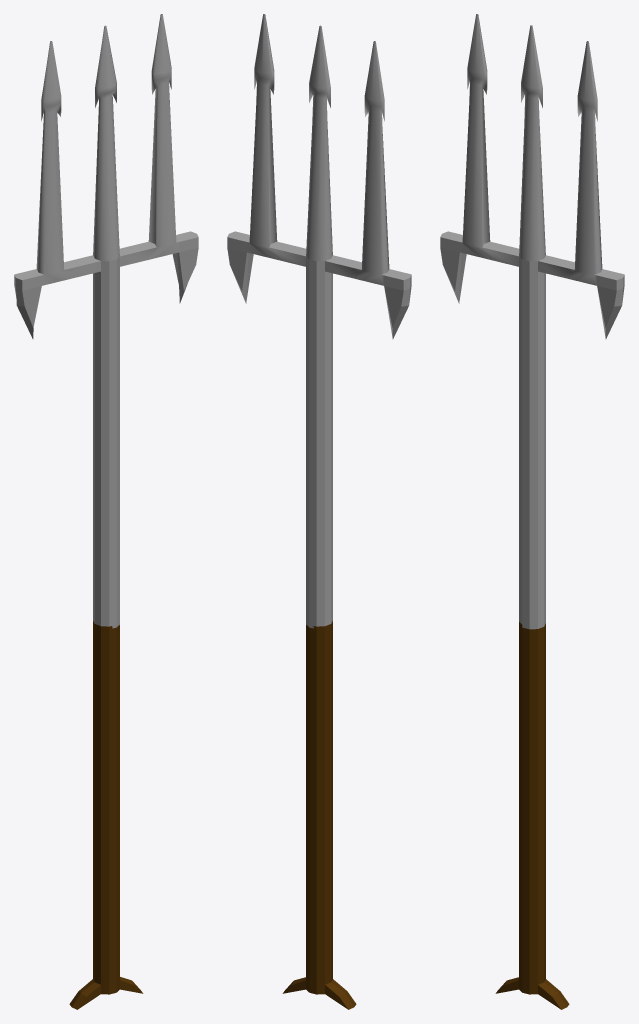
Rendered from Pitchfork.fbx.
3 views of the same model, side by side, from view 1: azimuth 30°, elevation 25°; view 2: azimuth 150°, elevation 25°; view 3: azimuth 330°, elevation 25° (orthographic).
Parts seen in each view (by area): view 1: Fork, Handle; view 2: Fork, Handle; view 3: Fork, Handle.
Part boxes in pixels (<box>): Fork: <box>14,14,198,628</box>; Handle: <box>69,621,143,1009</box>; Fork: <box>227,14,411,628</box>; Handle: <box>282,621,356,1009</box>; Fork: <box>440,14,624,629</box>; Handle: <box>495,622,569,1009</box>.
Size of the model in its own units: 0.772 by 3.97 by 0.0951.
